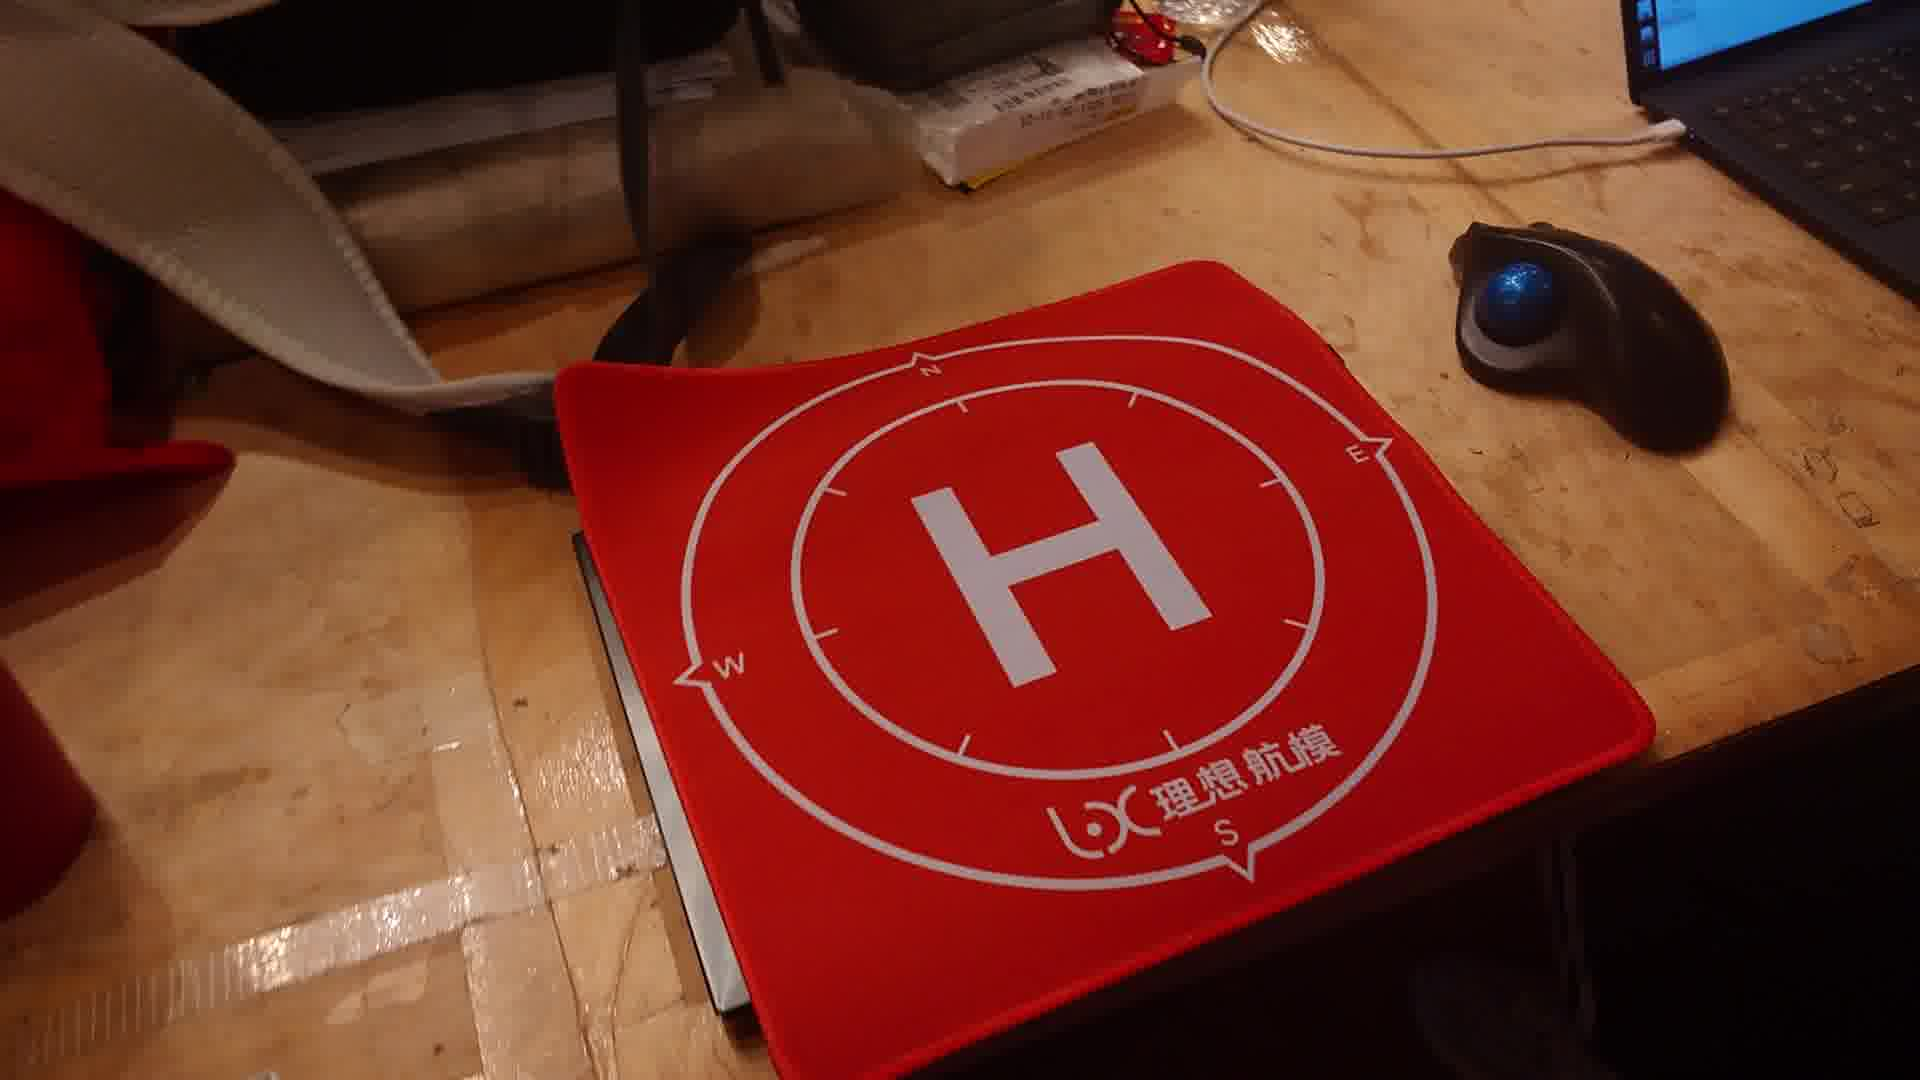H: (909, 440, 1217, 694)
